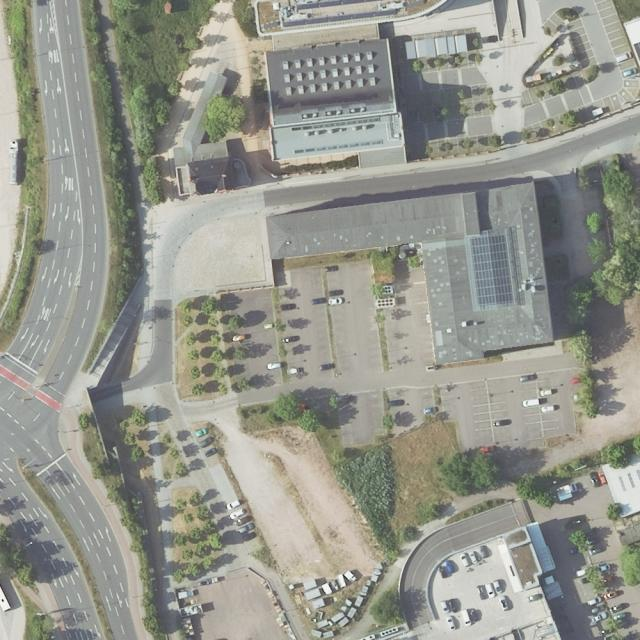PV: (469, 235, 515, 306), (284, 10, 395, 27), (295, 0, 380, 9), (406, 0, 426, 8)
